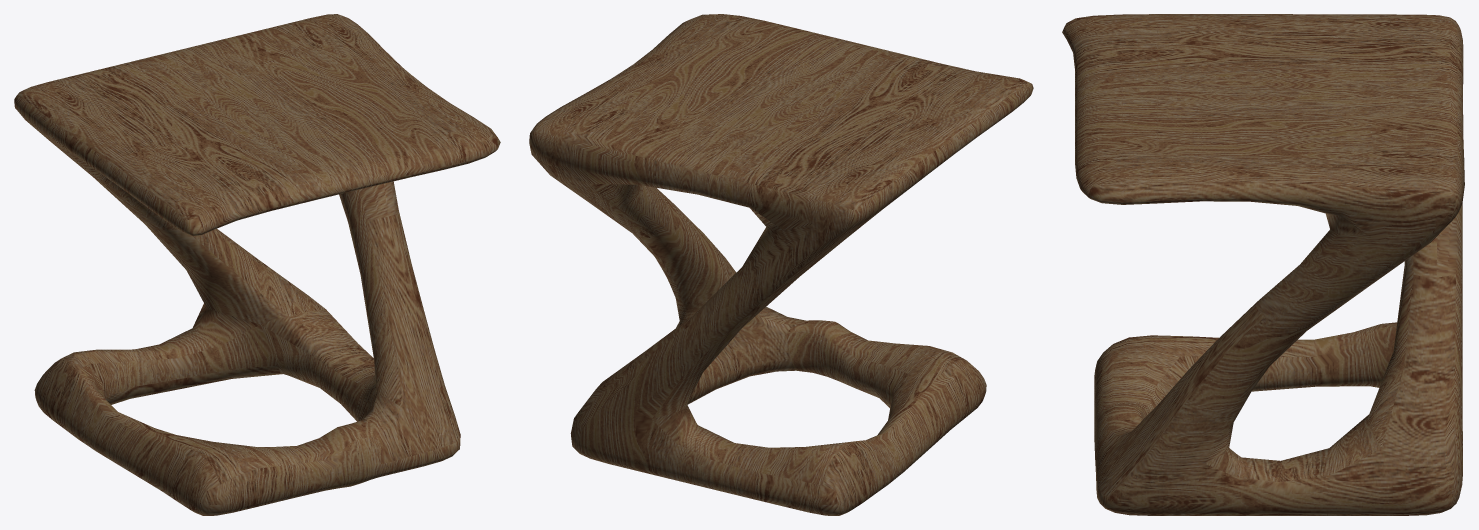
File: Organic Tea Table.fbx
3 views of the same model, side by side, from view 1: azimuth 30°, elevation 25°; view 2: azimuth 150°, elevation 25°; view 3: azimuth 270°, elevation 25° (orthographic). The views are drawn at different scales.
Parts seen in each view (by area): view 1: Organic_Table; view 2: Organic_Table; view 3: Organic_Table.
Part boxes in pixels (left/top/right/bottom): Organic_Table: left=14, top=14, right=500, bottom=515; Organic_Table: left=529, top=14, right=1033, bottom=515; Organic_Table: left=1062, top=14, right=1464, bottom=515.
Size of the model in its own units: 64.62 by 60.24 by 61.14.
